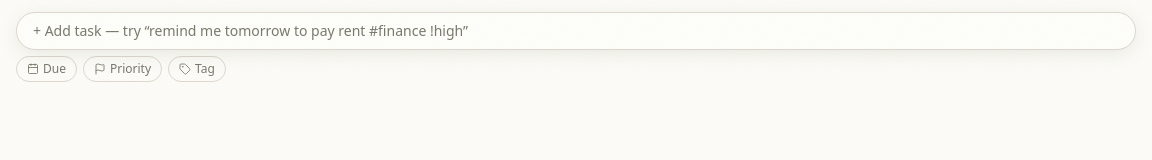
QuickAddBar › highlights parsed tokens inline (no chips)
The width and height of the screenshot is (1152, 160).
Type "Pay rent #finance !high" into the field labelled "Add task".
click(576, 31); type("Pay rent #finance !high")  # box [17, 13, 1135, 49]
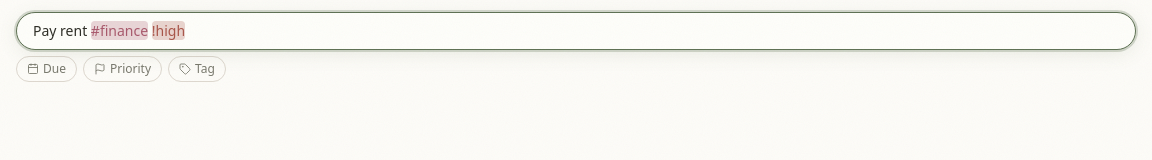
Now the number of elements with test id "qa-hl" is 2, box [91, 21, 148, 40]; [152, 21, 185, 40]
